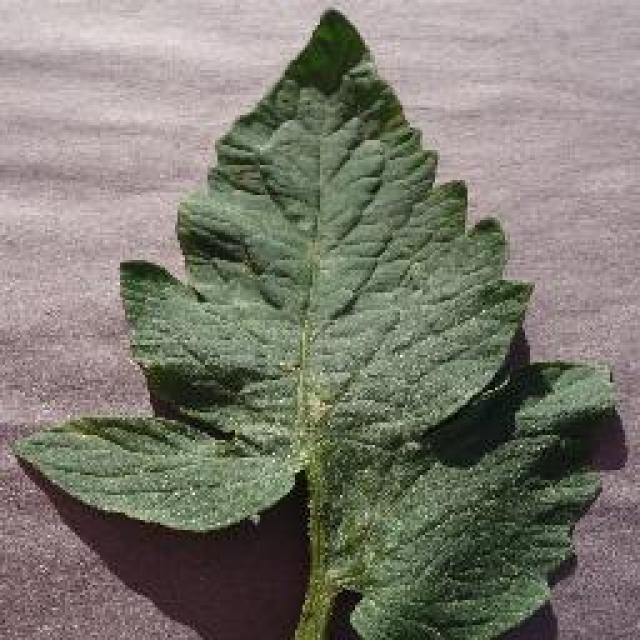Tomato Septoria spot leaf: (16, 7, 618, 640)
